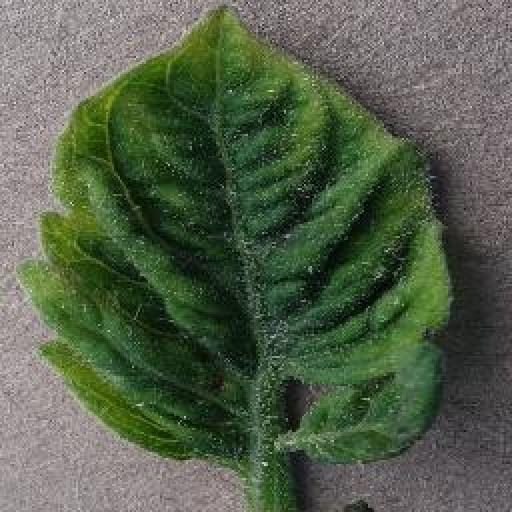Yellow Leaf Curl Virus: (15, 3, 459, 468)
